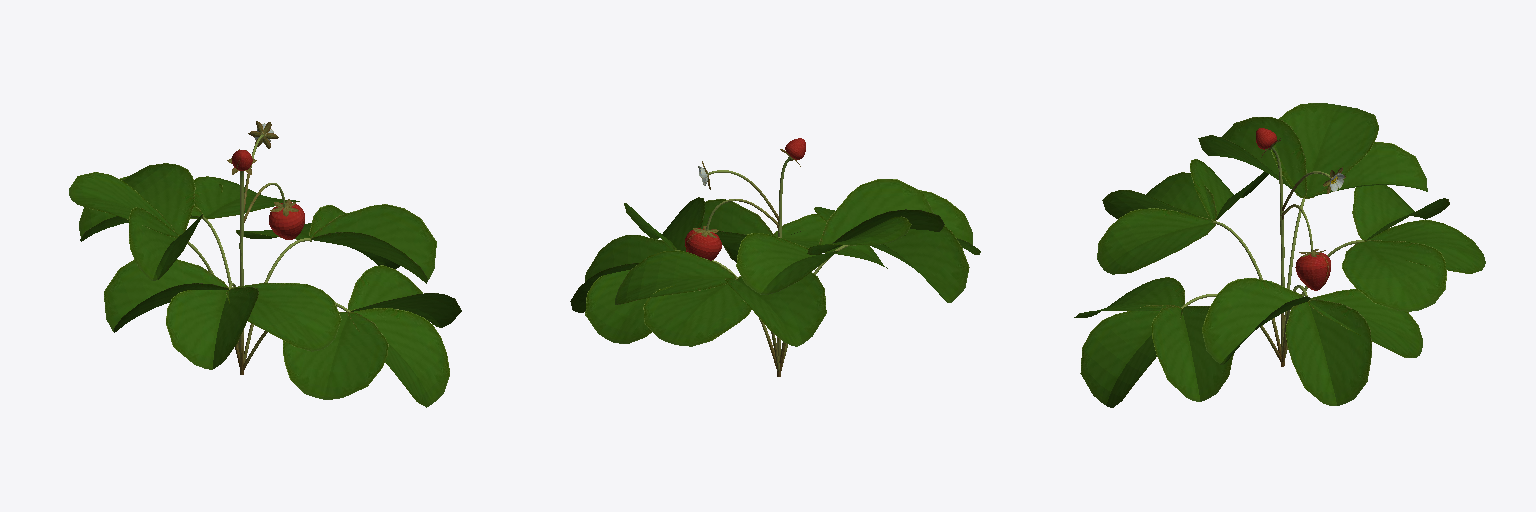
3 renders of one model, left to right at view 1: azimuth 30°, elevation 25°; view 2: azimuth 150°, elevation 25°; view 3: azimuth 270°, elevation 25°, orthographic.
Parts seen in each view (by area): view 1: strawberry_two leaf, stam strawberry_two, strawberry_two strawberry, strawberry_two rim_leaf; view 2: strawberry_two leaf, stam strawberry_two, strawberry_two strawberry; view 3: strawberry_two leaf, stam strawberry_two, strawberry_two strawberry.
Boxes of the visible parts, x1,y1,x2,y2 form: strawberry_two leaf: [69, 163, 461, 407]; stam strawberry_two: [187, 134, 349, 374]; strawberry_two strawberry: [232, 150, 304, 239]; strawberry_two rim_leaf: [227, 121, 298, 216]; strawberry_two leaf: [570, 179, 980, 346]; stam strawberry_two: [706, 157, 847, 376]; strawberry_two strawberry: [685, 138, 805, 260]; strawberry_two leaf: [1074, 103, 1485, 407]; stam strawberry_two: [1181, 147, 1363, 366]; strawberry_two strawberry: [1256, 128, 1330, 290].
Bounding box in the file's own units: 15.13 × 9.89 × 15.88.
Materials: 1 (1 with a texture image).